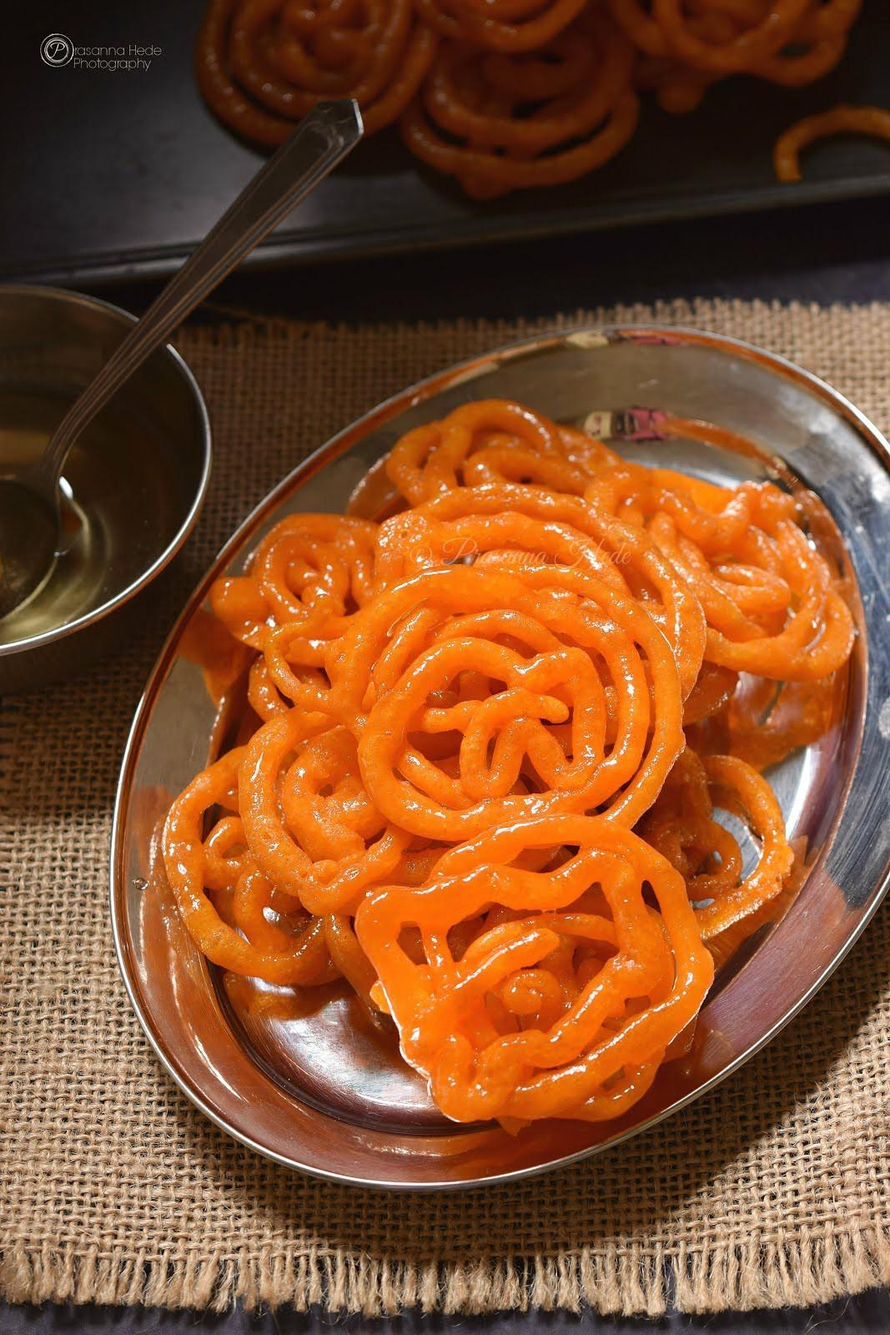Jalebi: (165, 384, 860, 1131)
